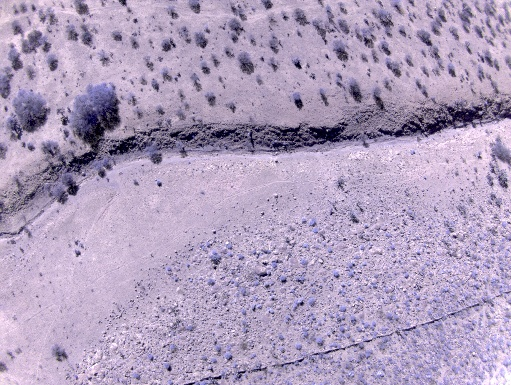agave: (357, 320, 376, 333), (292, 297, 304, 310), (131, 373, 142, 381), (308, 298, 316, 307), (224, 352, 232, 360), (309, 218, 317, 226), (208, 278, 216, 286), (333, 270, 340, 279), (316, 337, 323, 345), (339, 305, 347, 312), (279, 275, 287, 282), (226, 243, 234, 250), (295, 343, 302, 350), (147, 354, 154, 361), (300, 258, 307, 265), (256, 304, 263, 311), (404, 272, 411, 279), (165, 266, 172, 273), (312, 227, 319, 234), (215, 344, 221, 352), (278, 346, 286, 352), (326, 248, 334, 254), (237, 254, 245, 260), (164, 363, 170, 370), (339, 326, 345, 333), (263, 282, 270, 288), (227, 252, 234, 258), (211, 249, 217, 255), (347, 262, 353, 267)
